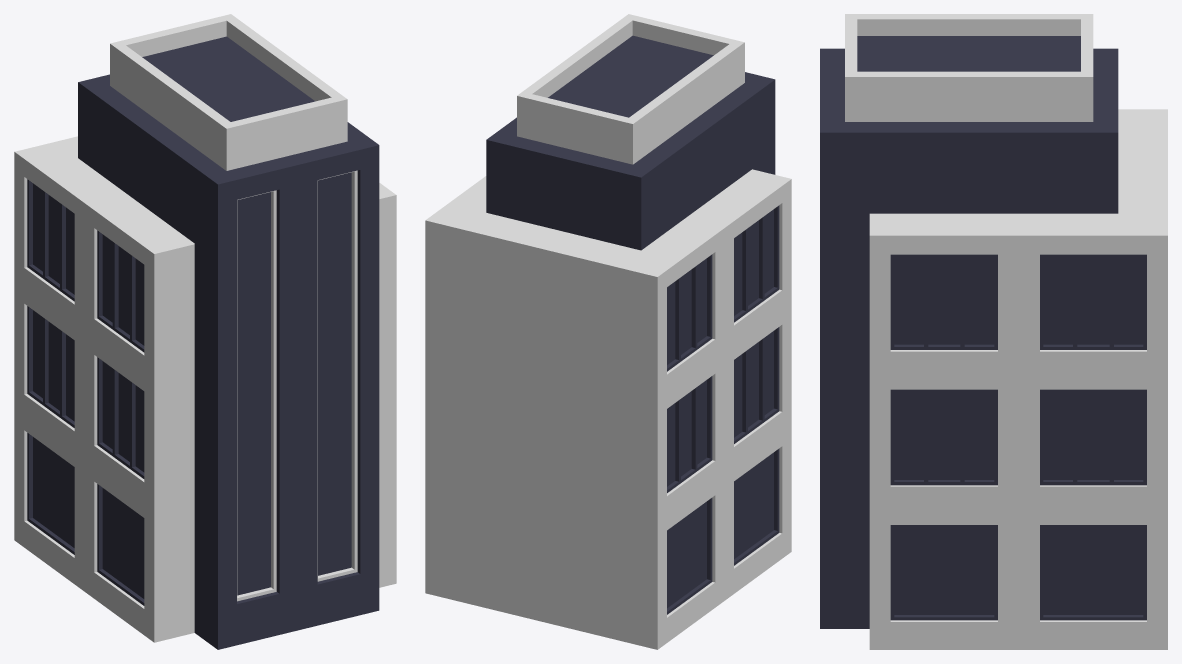
The model's file is Demo.gltf.
3 views of the same model, side by side, from view 1: azimuth 30°, elevation 25°; view 2: azimuth 150°, elevation 25°; view 3: azimuth 270°, elevation 25° (orthographic). The views are drawn at different scales.
Visible parts, largest first — view 1: Top floor, Main building, Window glass, Roof, Window frames, Roof 1, Window frames 1; view 2: Main building, Top floor, Window glass, Roof, Window frames, Roof 1; view 3: Main building, Top floor, Window glass, Roof, Window frames, Roof 1.
Boxes of the visible parts, x1,y1,x2,y2 form: Top floor: (78,74,379,649); Main building: (14,136,396,642); Window glass: (33,172,351,598); Roof: (110,14,347,170); Window frames: (27,179,144,605); Roof 1: (142,36,315,121); Window frames 1: (237,170,357,601); Main building: (425,169,791,649); Top floor: (486,72,775,250); Window glass: (667,209,773,608); Roof: (517,14,744,164); Window frames: (667,205,779,614); Roof 1: (548,35,713,117); Main building: (869,109,1167,649); Top floor: (820,48,1118,628); Window glass: (894,256,1143,614); Roof: (845,14,1093,121); Window frames: (890,254,1146,620); Roof 1: (857,36,1080,71).
Bounding box in the file's own units: 0.06 × 0.1202 × 0.07.
